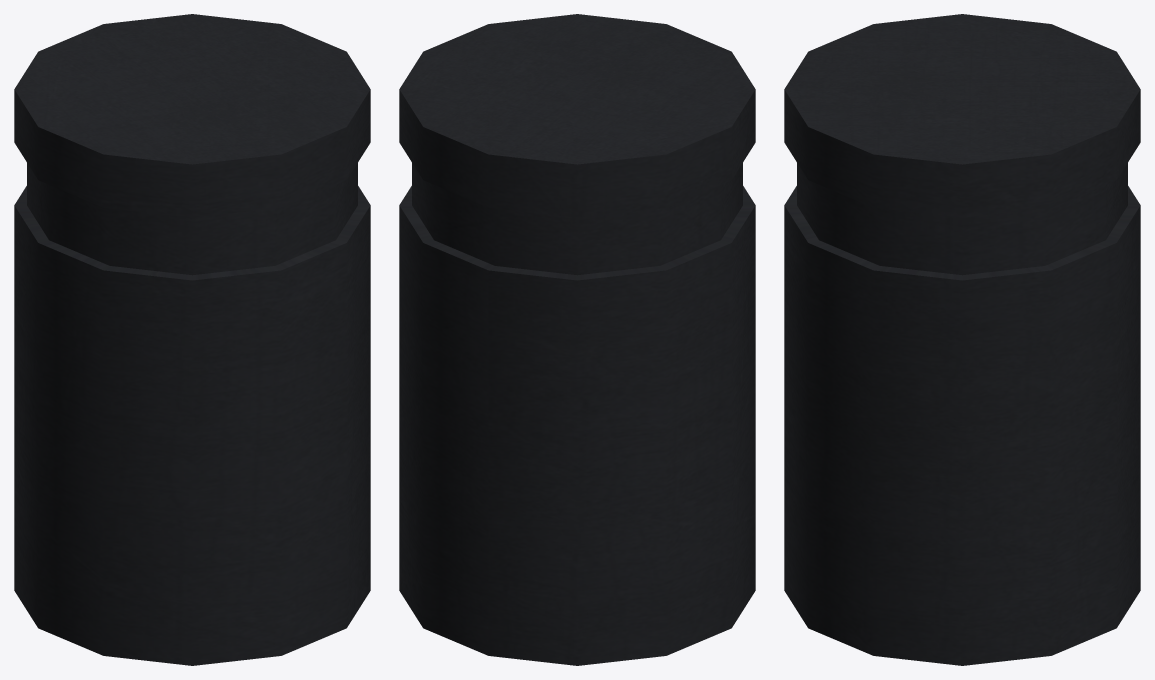
The model's file is tank.FBX.
3 views of the same model, side by side, from view 1: azimuth 30°, elevation 25°; view 2: azimuth 150°, elevation 25°; view 3: azimuth 270°, elevation 25° (orthographic).
Visible parts, largest first — view 1: Cylinder002; view 2: Cylinder002; view 3: Cylinder002.
Boxes of the visible parts, bbox=[...] form: Cylinder002: bbox=[14, 14, 370, 665]; Cylinder002: bbox=[399, 14, 755, 665]; Cylinder002: bbox=[784, 14, 1140, 665].
Bounding box in the file's own units: 4.49 × 6.98 × 4.49.
1 material, 1 textured.
